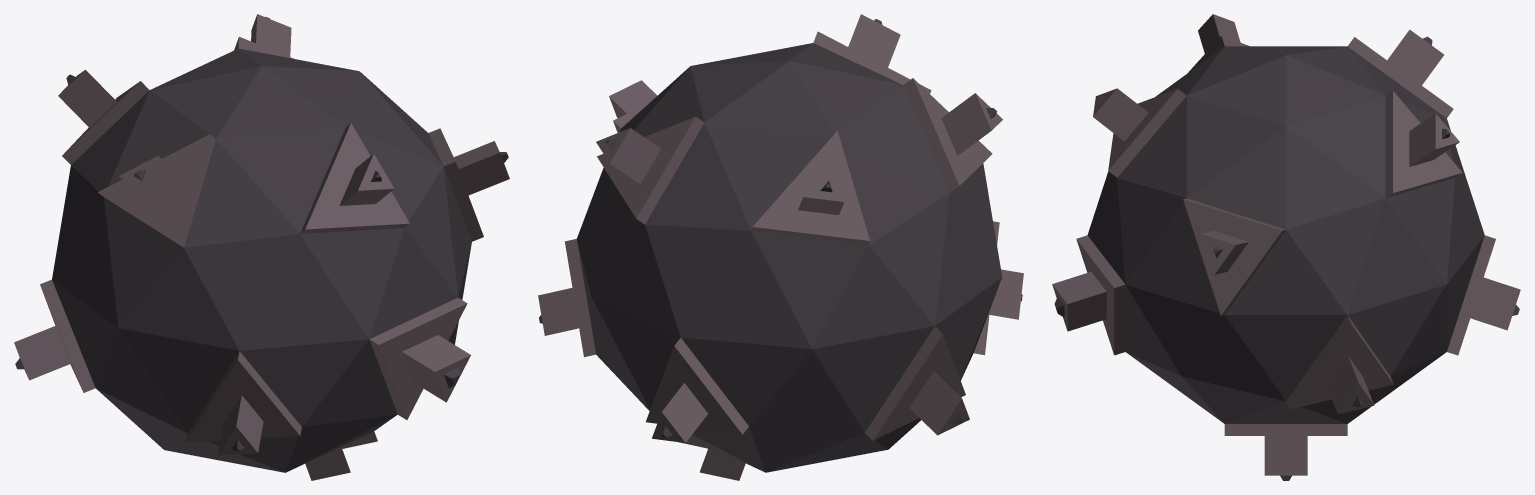
File: bomb.fbx
3 views of the same model, side by side, from view 1: azimuth 30°, elevation 25°; view 2: azimuth 150°, elevation 25°; view 3: azimuth 270°, elevation 25° (orthographic). The views are drawn at different scales.
Visible parts, largest first — view 1: bomb; view 2: bomb; view 3: bomb.
Part boxes in pixels (left/top/right/bottom): bomb: left=14, top=14, right=509, bottom=480; bomb: left=538, top=14, right=1023, bottom=480; bomb: left=1052, top=14, right=1520, bottom=480.
Bounding box in the file's own units: 225 × 219 × 236.
